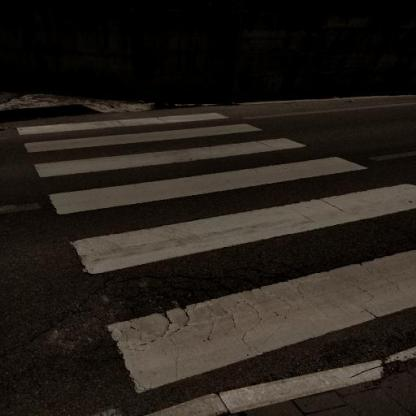crosswalk: (29, 133, 372, 227)
